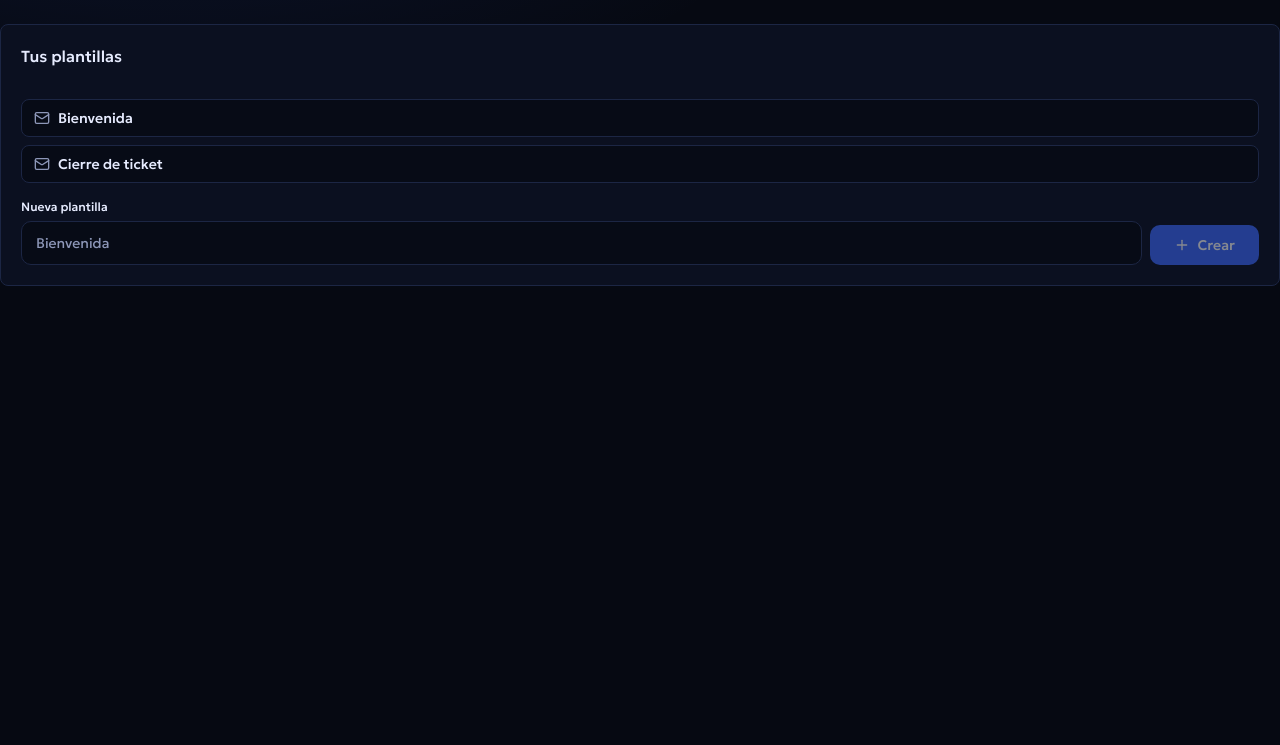
it: Plantillas de correo › avisa si el HTML se queda sin el marcador del mensaje
Click the button "Bienvenida" at (95, 118), box left=21, top=99, right=1259, bottom=137
(page scrolled)
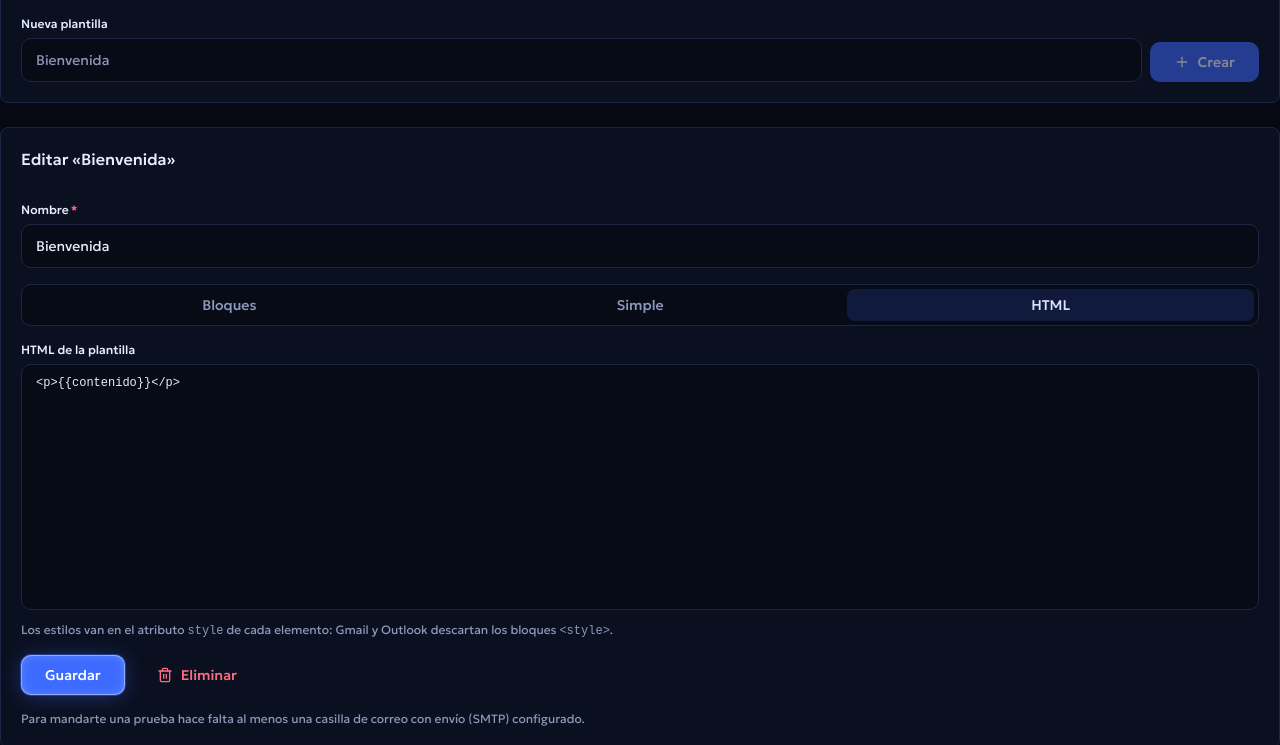
Note: Abre en HTML porque no tiene design detrás.
Replace the text in the text box labelled "HTML de la plantilla" with "<p>hola</p>" at (640, 487), box left=21, top=364, right=1259, bottom=610
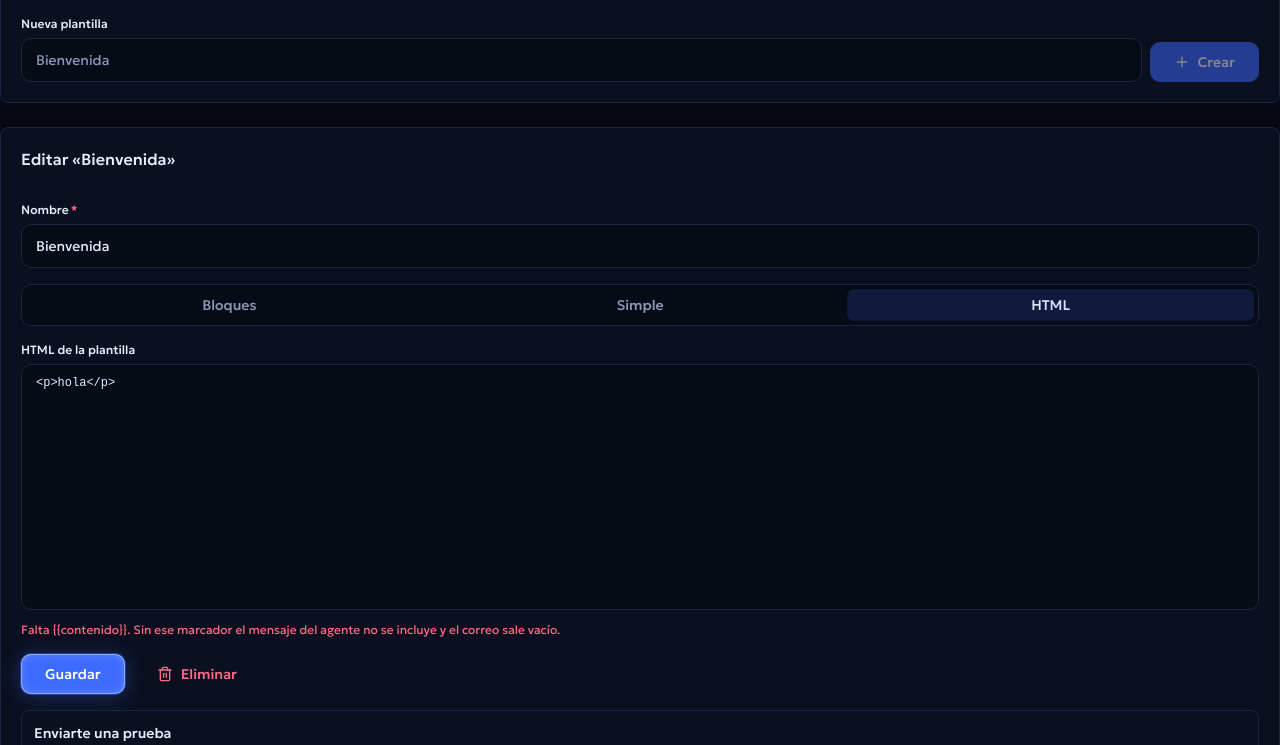
Result: the message shows "Falta {{contenido}}" at left=21, top=622, right=560, bottom=637
